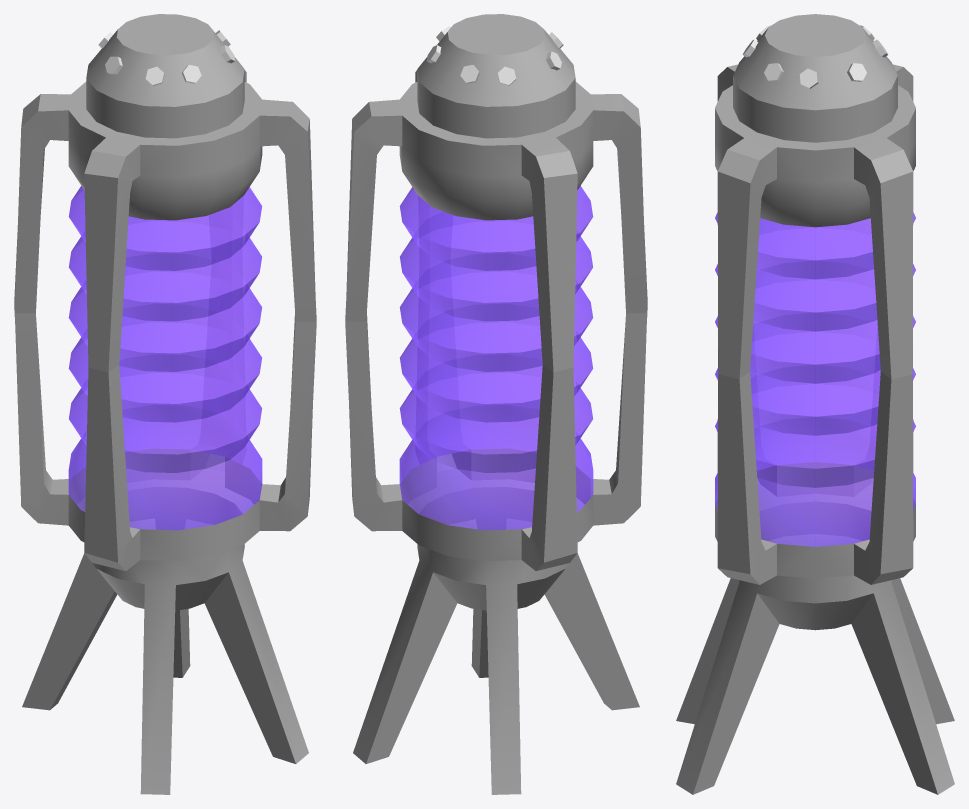
File: SterrenStofCondensator-1.glb
3 views of the same model, side by side, from view 1: azimuth 30°, elevation 25°; view 2: azimuth 150°, elevation 25°; view 3: azimuth 270°, elevation 25° (orthographic). The views are drawn at different scales.
Visible parts, largest first — view 1: SterrenStofCondensator-1; view 2: SterrenStofCondensator-1; view 3: SterrenStofCondensator-1.
Boxes of the visible parts, x1,y1,x2,y2 form: SterrenStofCondensator-1: (14,14,316,794); SterrenStofCondensator-1: (345,14,647,794); SterrenStofCondensator-1: (676,14,954,794).
Size of the model in its own units: 0.2694 by 0.7864 by 0.2772.
